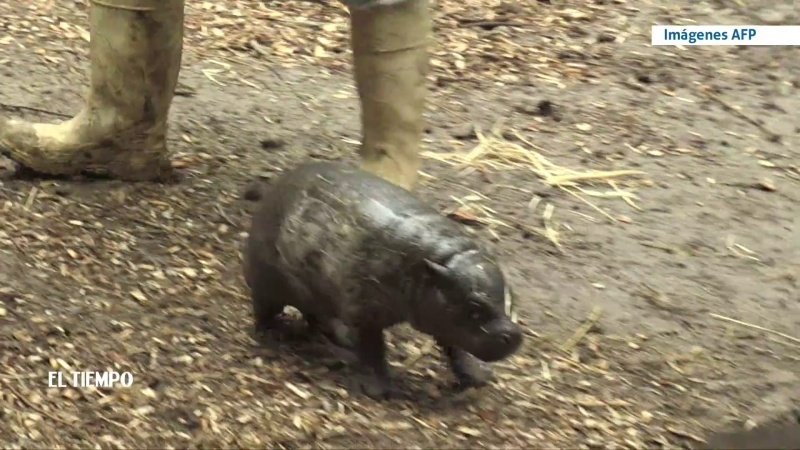hipopotamo: (231, 152, 538, 416)
